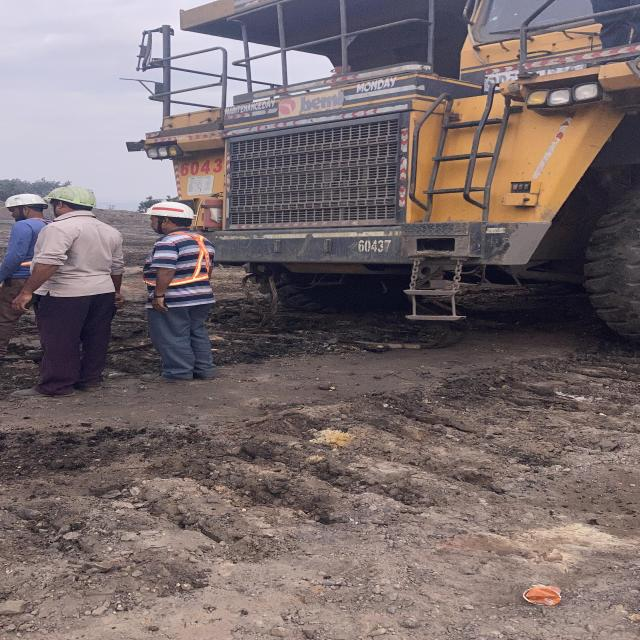dump_truck: (125, 0, 640, 354)
